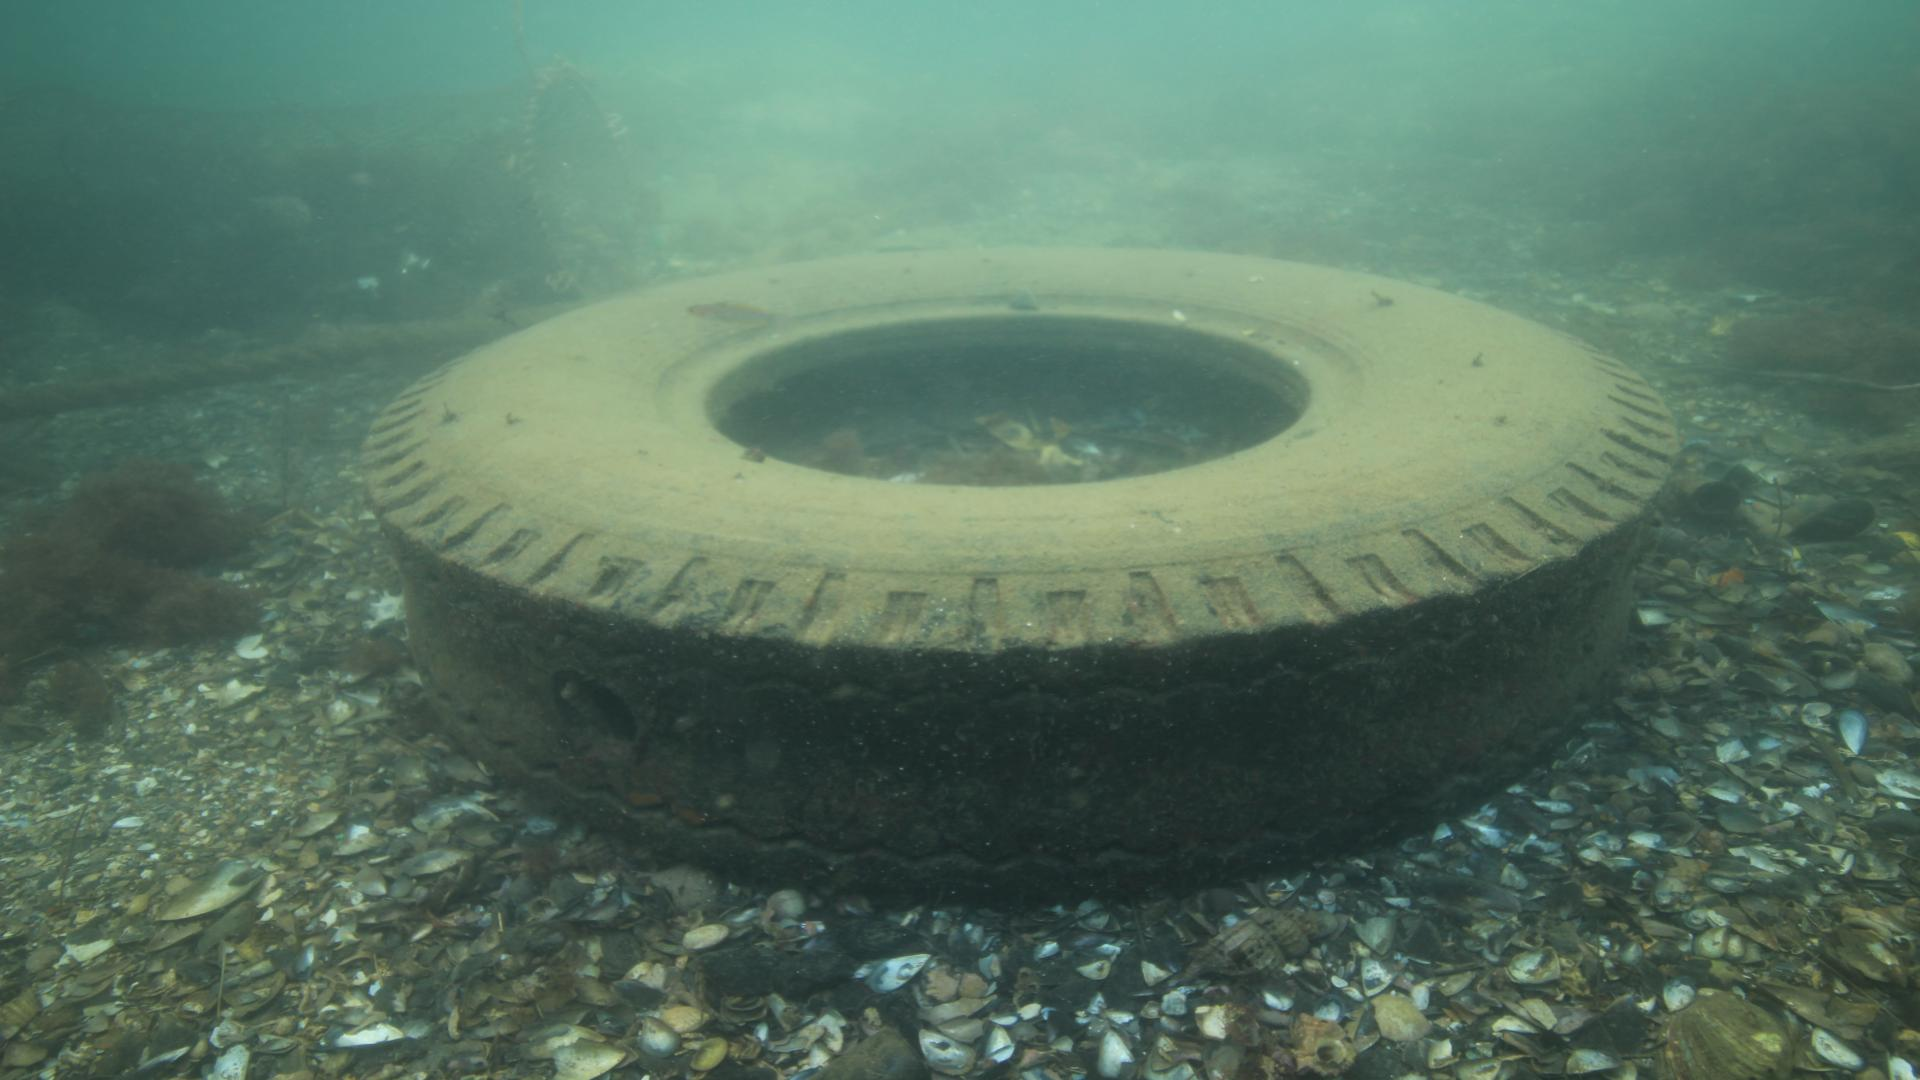tire: (357, 240, 1683, 895)
